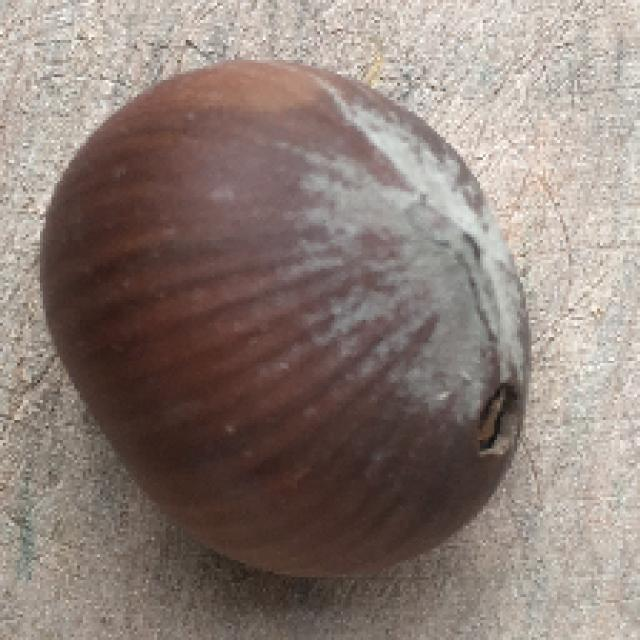damagedHazelnut: (39, 53, 544, 584)
